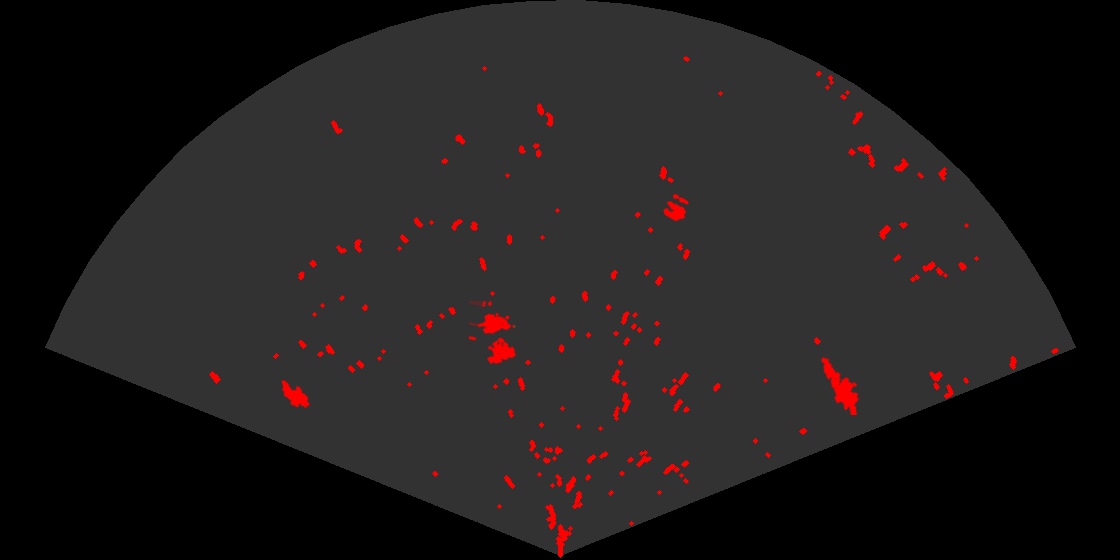AUV: (280, 378, 311, 410)
ball: (661, 192, 690, 223)
cage: (469, 301, 518, 366)
frogman: (820, 355, 861, 415)
